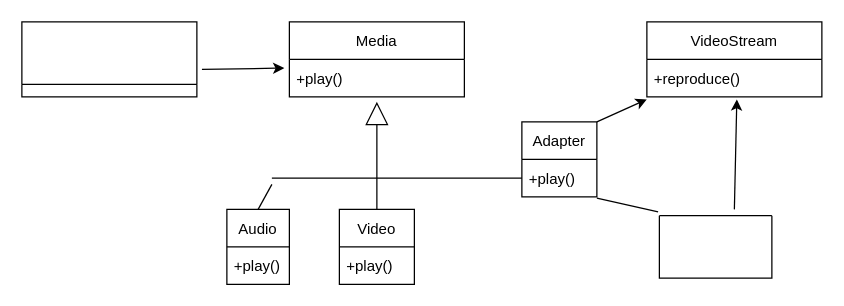
Some shapes in this 844 by 306 pixel diagram are drawn without their labels. The shapes that lost their labels are listed below. From the top down, each one's centre as x and y in pixels, then its label:
At (109,59): "MediaPlayer".
At (715,246): "play(){ reproduce() }".
